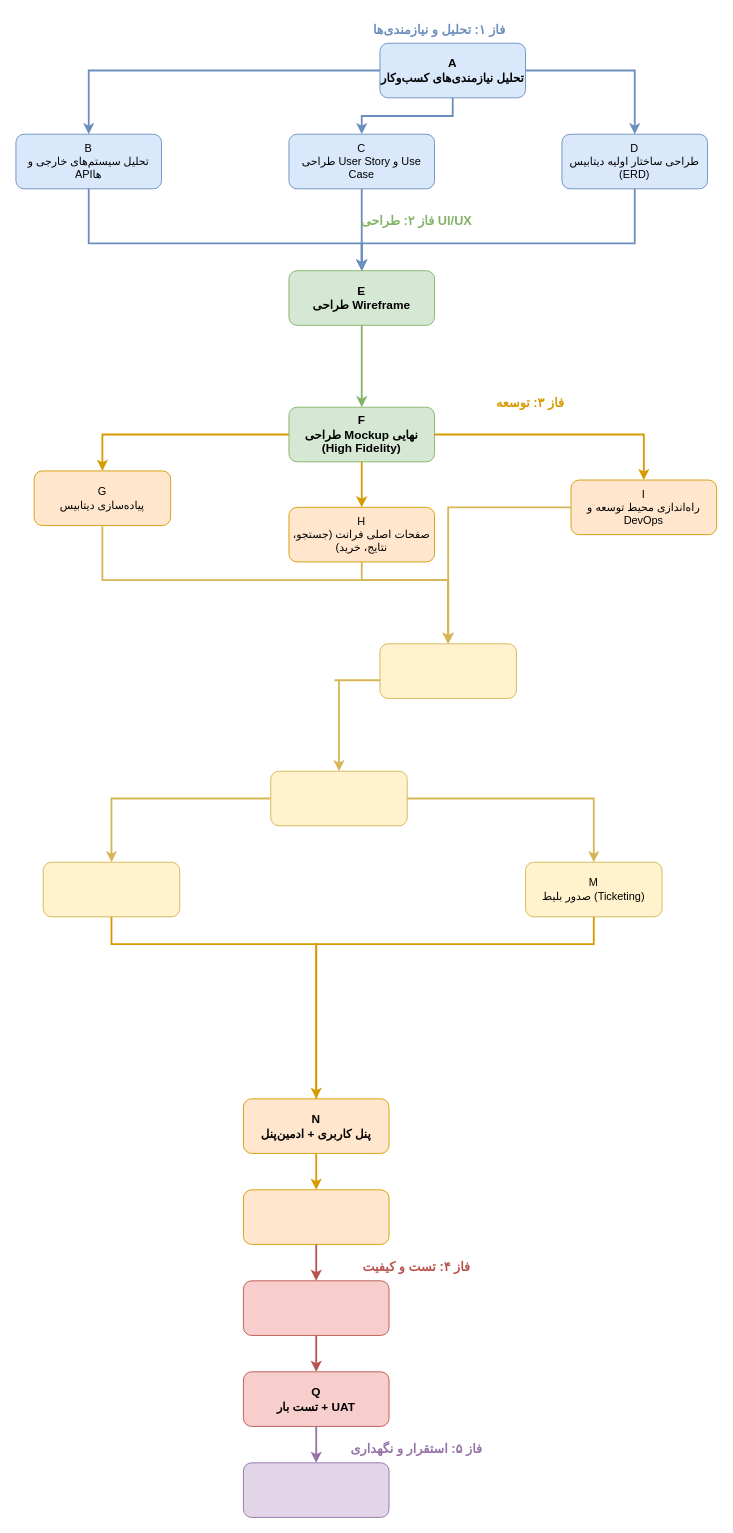
The diagram is 733 pixels wide and 1533 high, and some of its shapes have lost their labels. The box of each missing label's shape, as (x1, y1, x2, y2) in pixels:
J API جستجوی پرواز: (379, 643, 516, 698)
K سیستم رزرو و مدیریت صندلی: (270, 770, 407, 826)
L درگاه پرداخت: (42, 861, 180, 917)
O بهینه‌سازی فرانت‌اند + SEO + PWA: (243, 1189, 389, 1244)
P تست یکپارچگی + End-to-End: (243, 1280, 389, 1335)
R استقرار + Monitoring: (243, 1462, 389, 1517)
